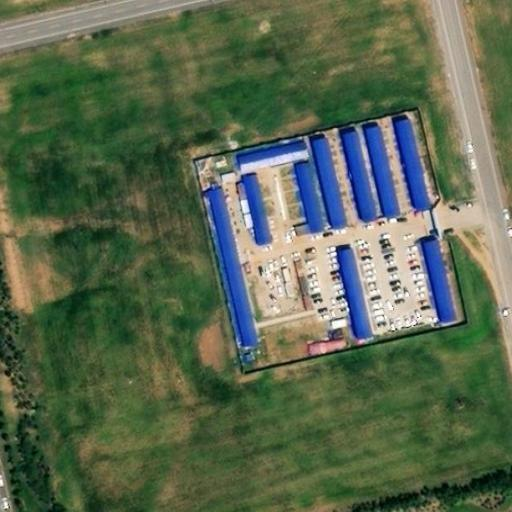building: (210, 195, 263, 360), (395, 128, 435, 224), (338, 255, 371, 358), (315, 149, 350, 243), (365, 137, 399, 233), (424, 253, 461, 339), (345, 142, 378, 236), (236, 150, 312, 184), (296, 173, 328, 248), (244, 185, 275, 260), (301, 329, 349, 355)
